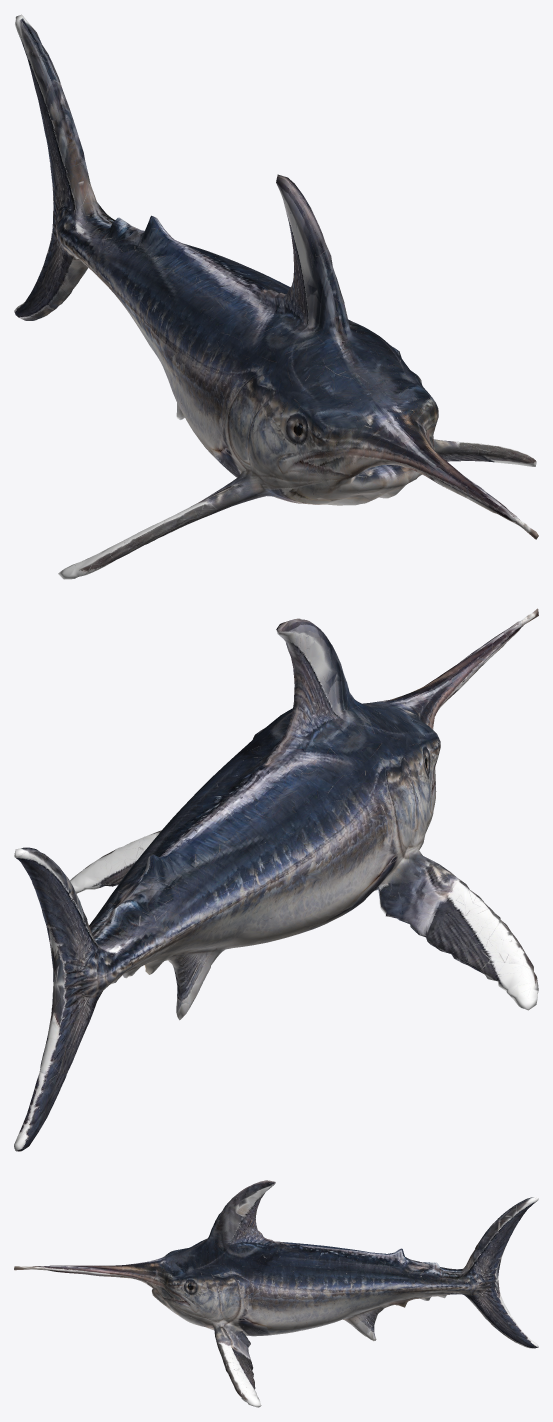
File: fish_swordfish.glb
3 views of the same model, one above another, from view 1: azimuth 30°, elevation 25°; view 2: azimuth 150°, elevation 25°; view 3: azimuth 270°, elevation 25° (orthographic). The views are drawn at different scales.
Parts seen in each view (by area): view 1: geometry_0; view 2: geometry_0; view 3: geometry_0.
Boxes of the visible parts, x1,y1,x2,y2 form: geometry_0: (14, 14, 538, 579); geometry_0: (14, 608, 538, 1151); geometry_0: (14, 1180, 538, 1407).
Size of the model in its own units: 1.02 by 0.6992 by 1.96.
Materials: 1 (1 with a texture image).
